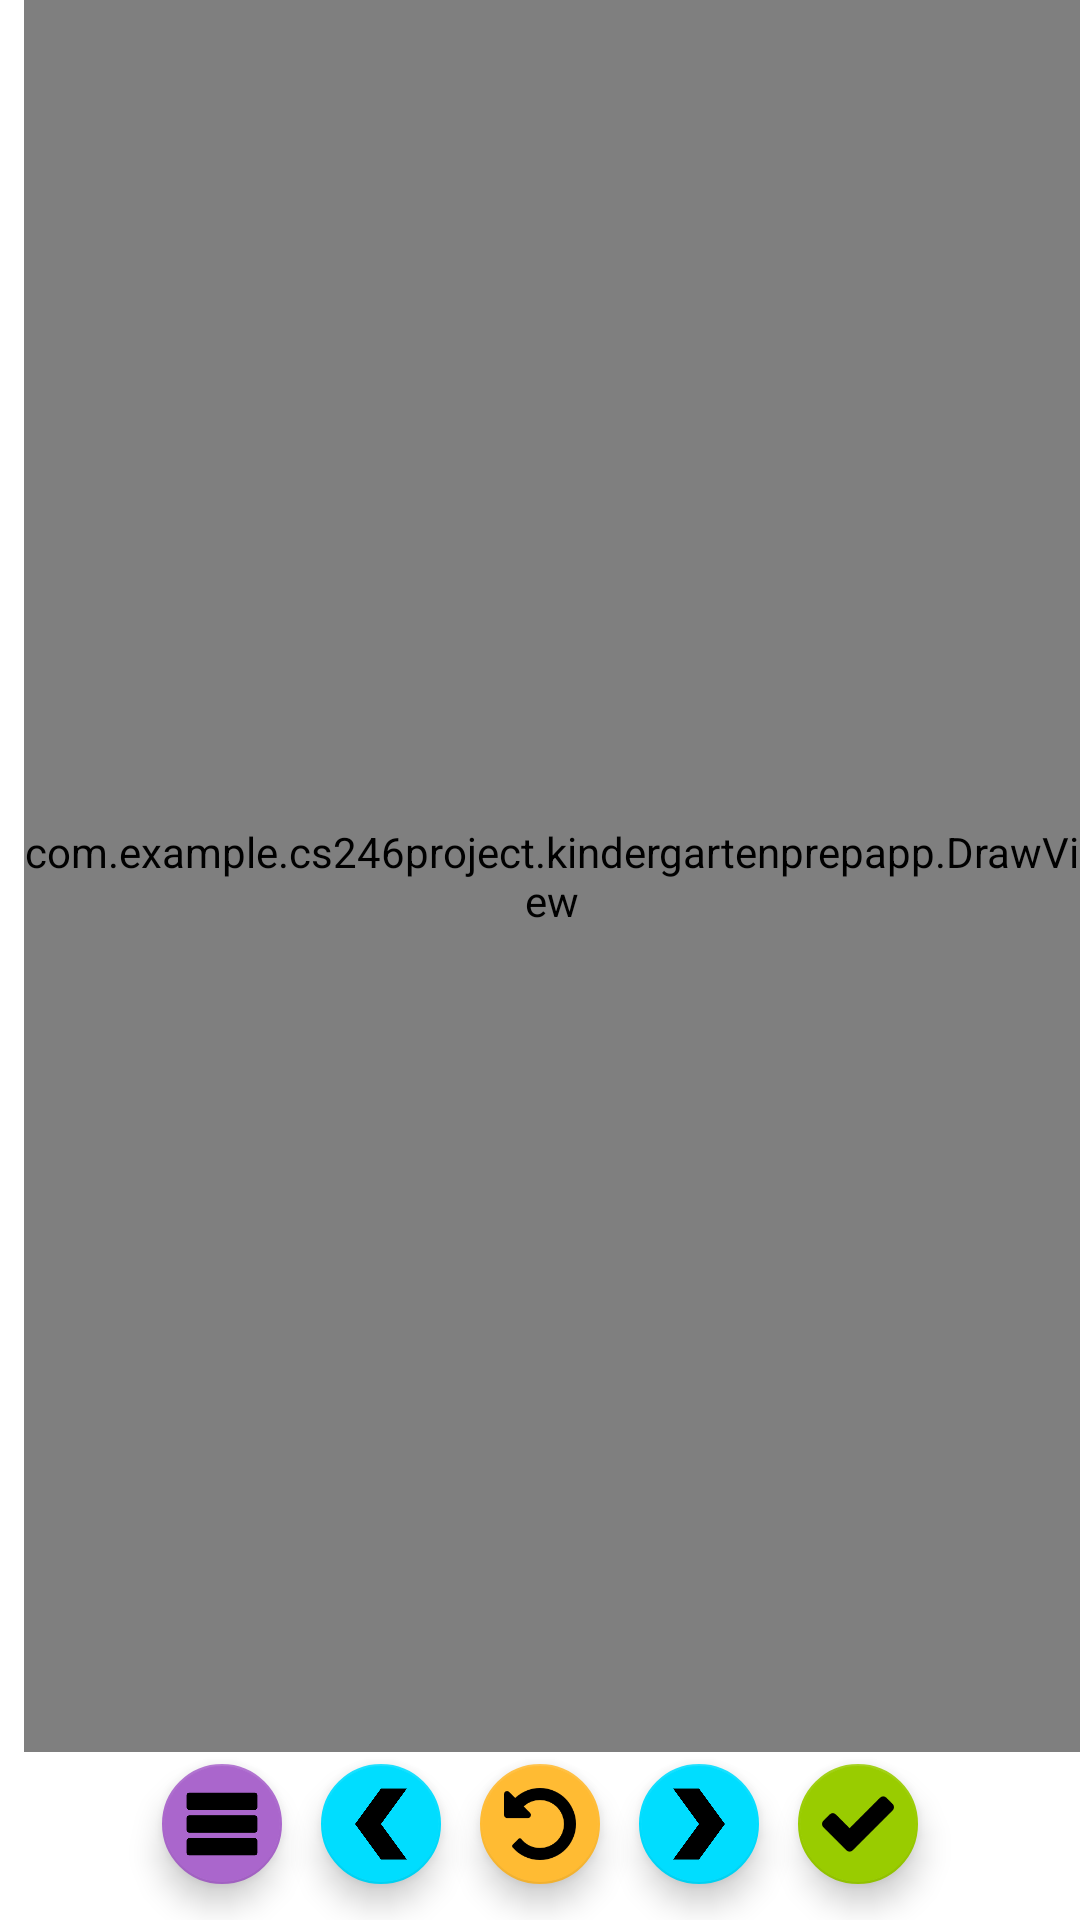

Where to tap for icons on this 1080x1920 app screen, as point (x, y):
arrow left: point (381, 1830)
arrow right: point (699, 1830)
check: point (859, 1830)
menu: point (221, 1830)
